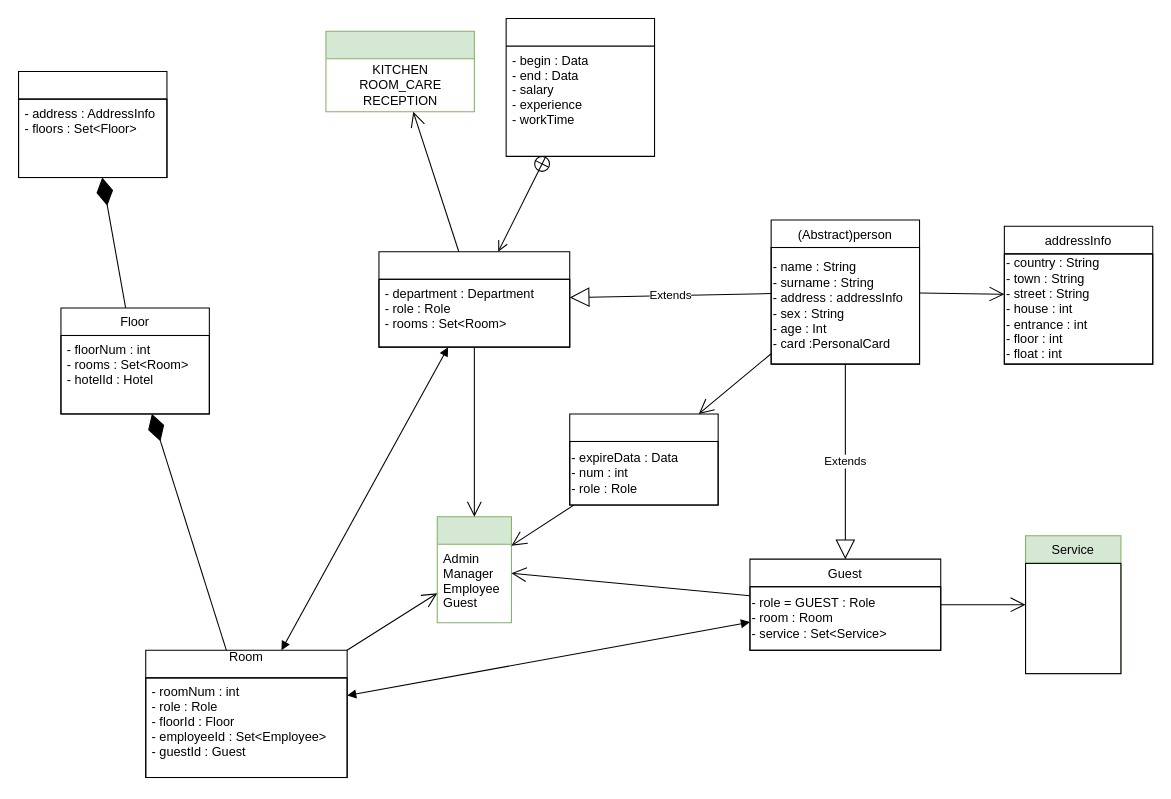
Image size: 1171x799. Some labels were removed from this diagram. The shapes that lost their labels are listed below. From the top down, each one's box as (x1, y1, x2, y2) in pixels, then its label:
(325, 30, 474, 112): Department
(505, 17, 655, 156): Contract
(17, 70, 167, 178): Hotel
(378, 251, 570, 347): Employee
(569, 413, 718, 505): PersonalCard
(436, 516, 511, 623): Role
(1024, 562, 1121, 674): BREAKFAST, LUNCH, DINNER, BAR, DISCO
